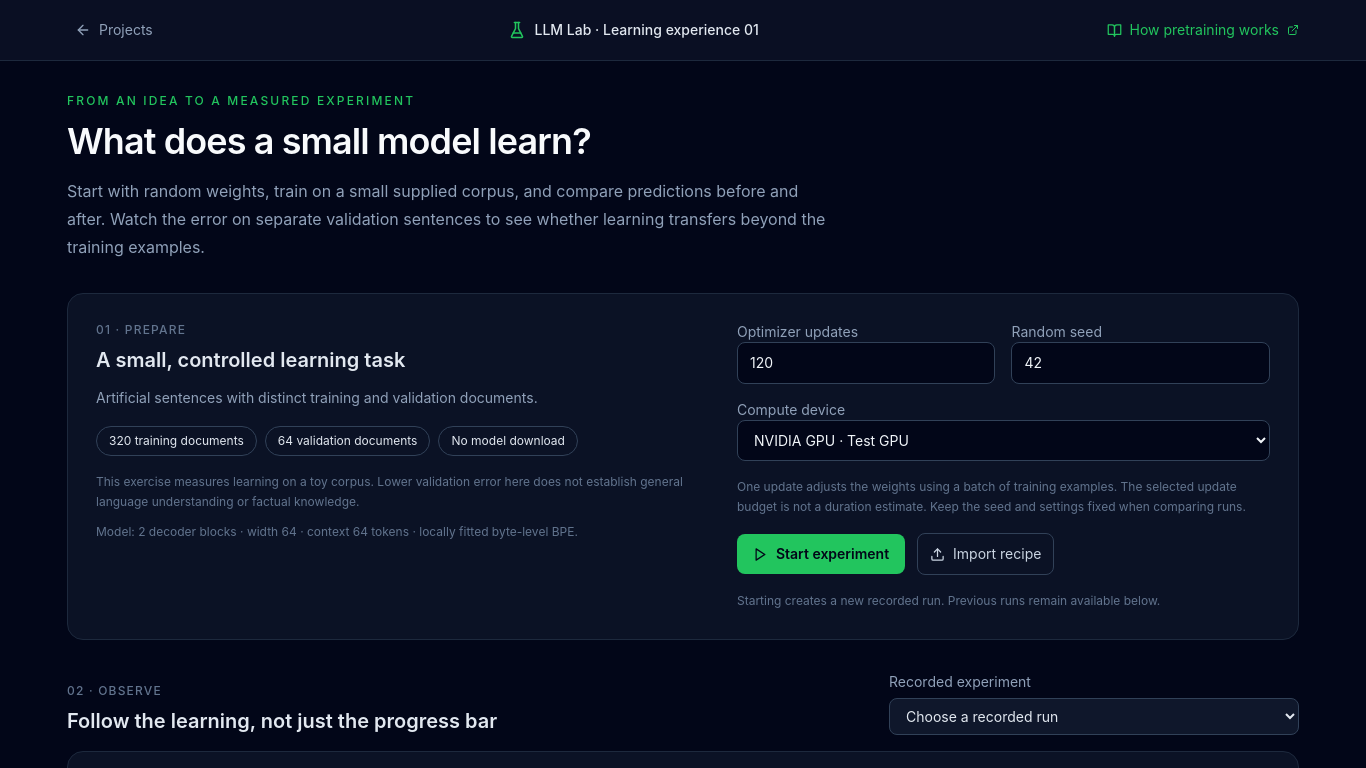
Test: Guided learning experience › only starts after an explicit action, sends reviewed settings and preserves the run in the URL
Replace the text in the number field labelled "Optimizer updates" with "40" at (866, 363), box [737, 342, 996, 384]
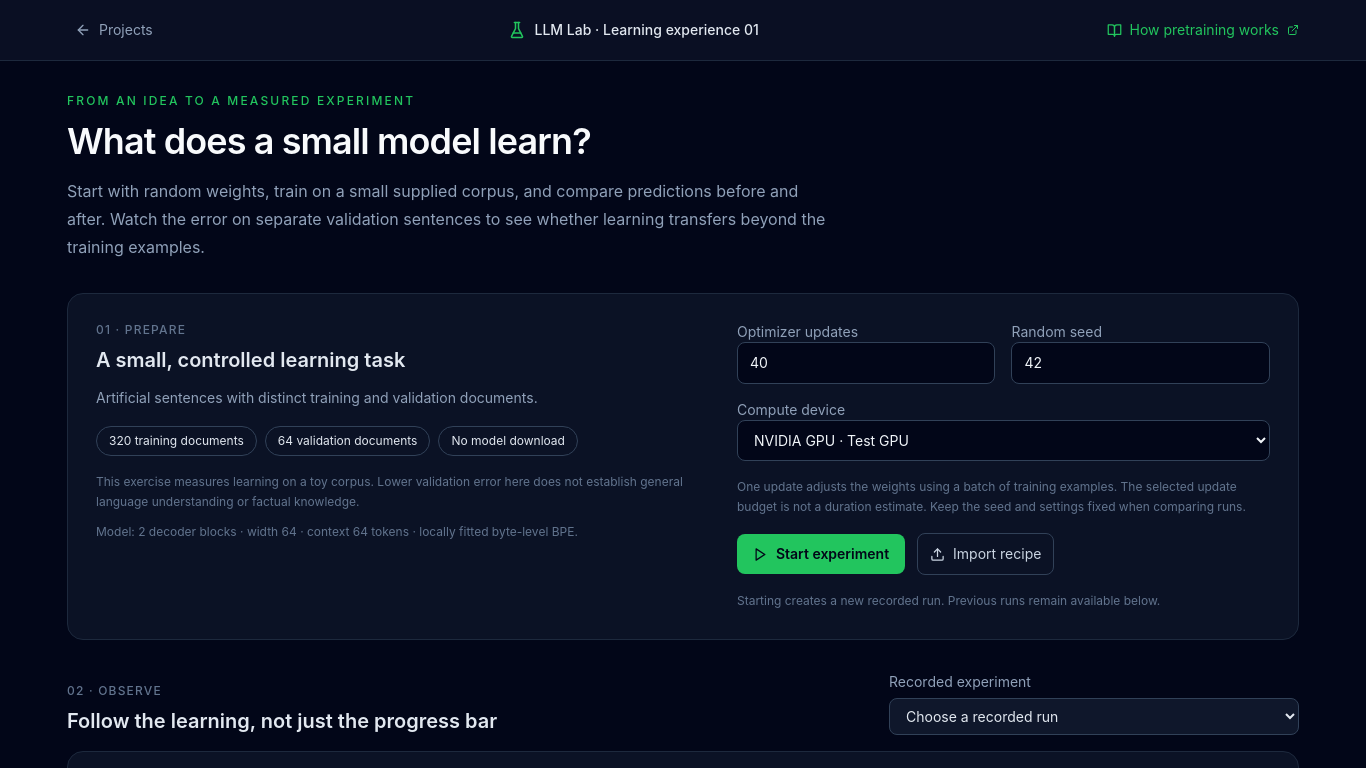
Replace the text in the number field labelled "Random seed" with "123" at (1141, 363), box [1012, 342, 1270, 384]
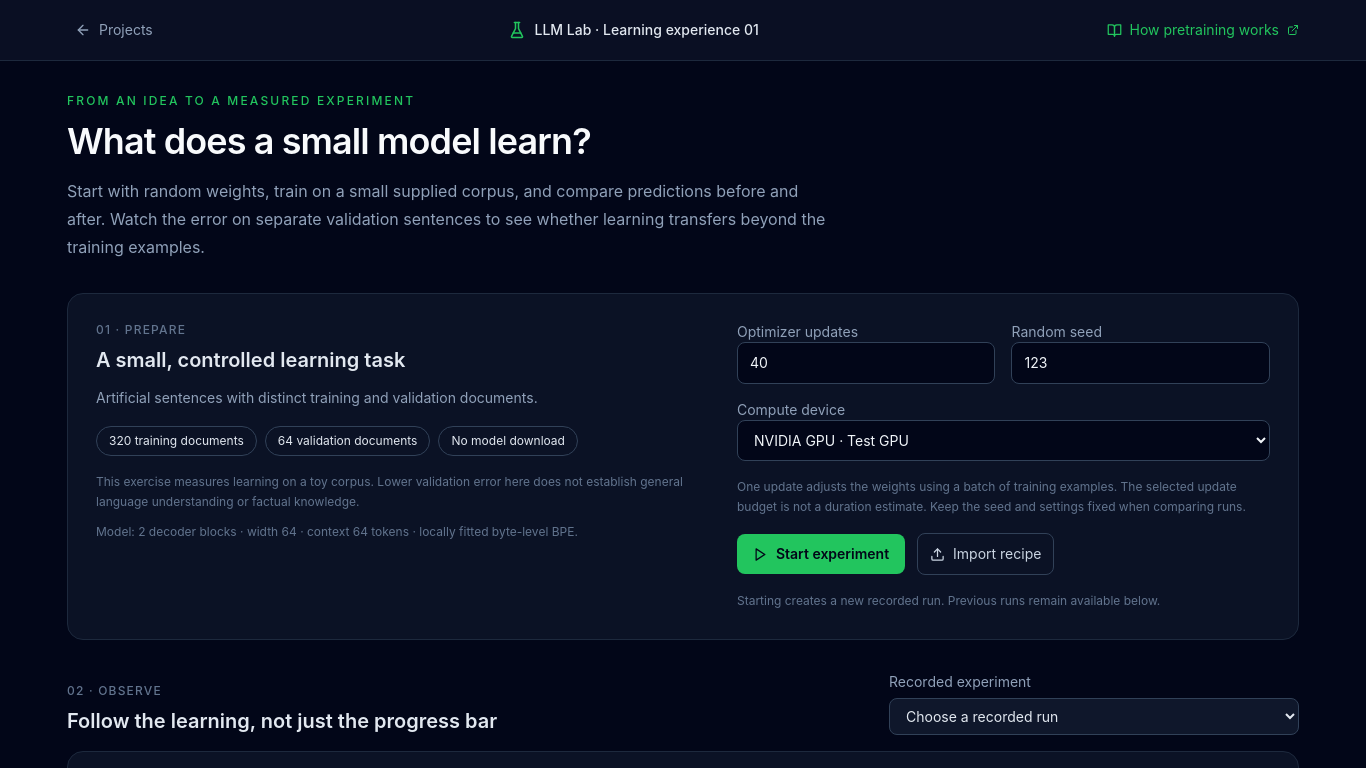
Select "CPU · Test CPU" in the dropdown labelled "Compute device" at (1004, 440), box [737, 420, 1270, 461]
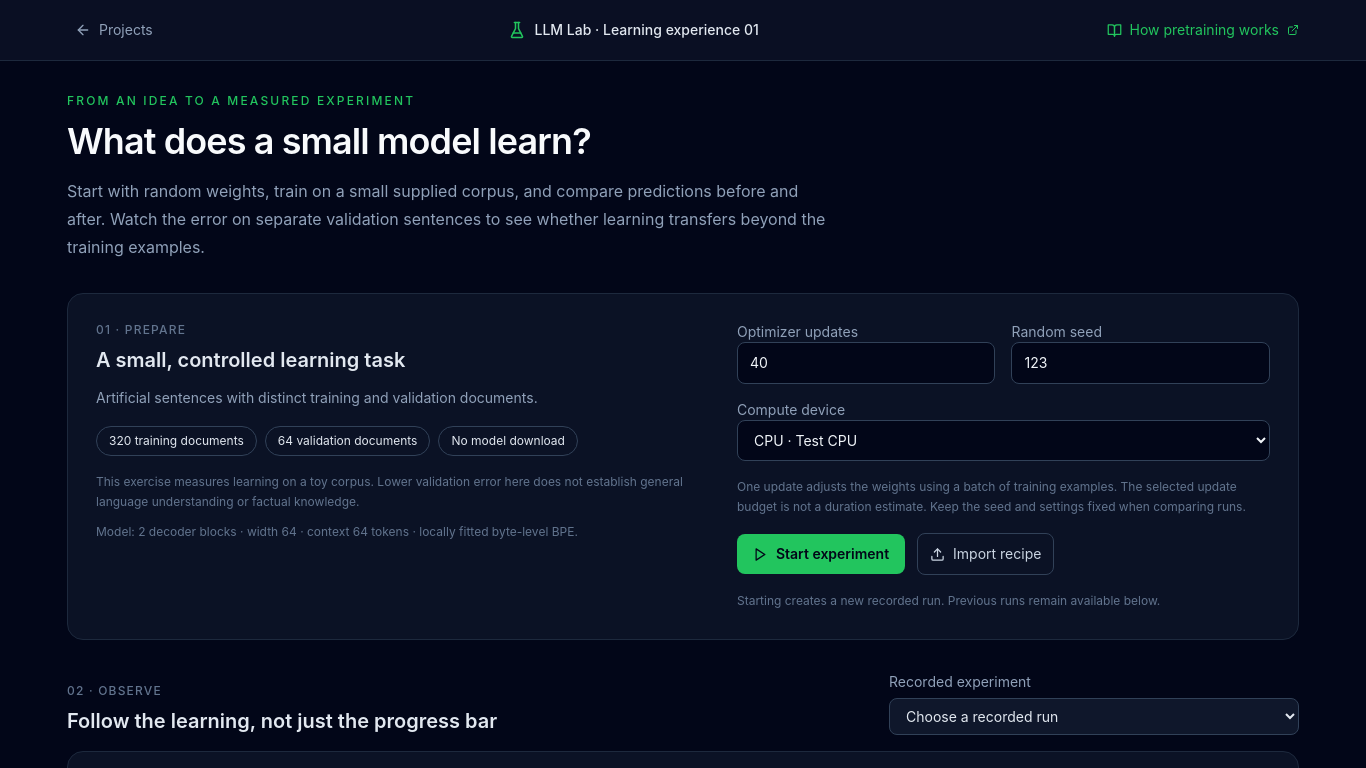
Click the button "Start experiment" at (821, 554), box [737, 534, 905, 574]
(page scrolled)
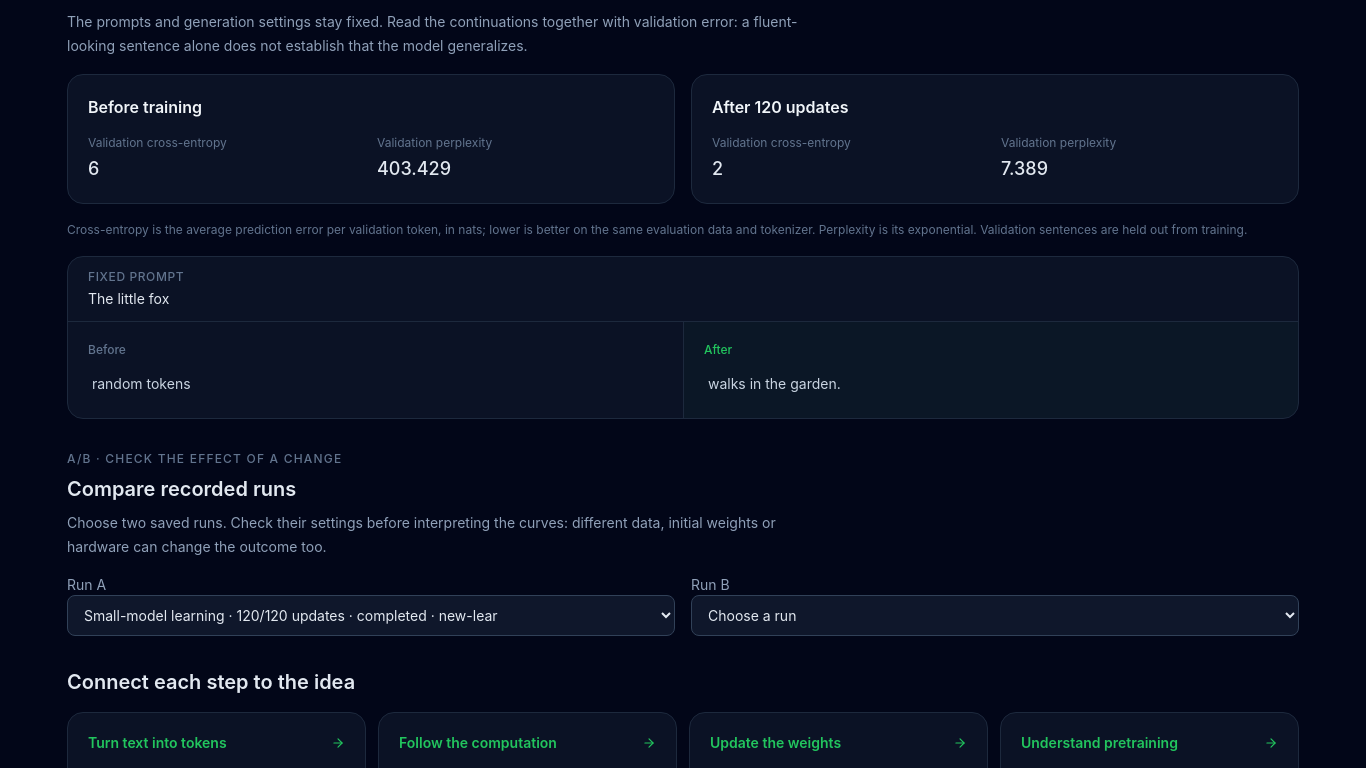
Check: the text "walks in the garden." is shown, box [704, 375, 841, 392]
